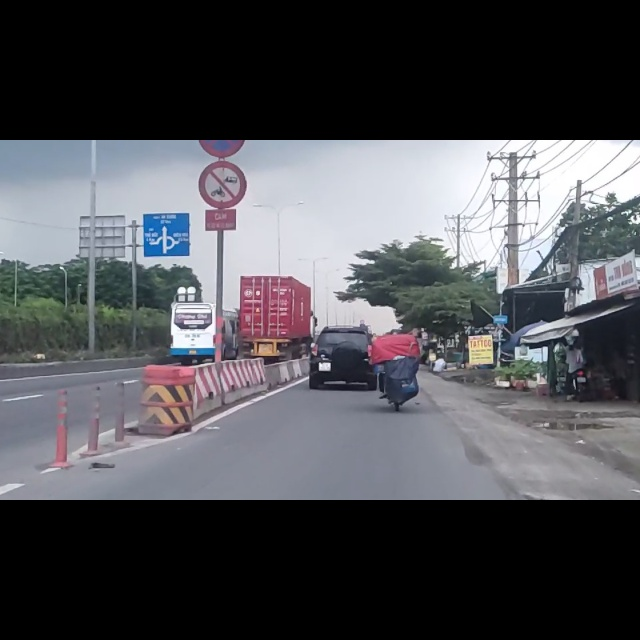bien_cam: (197, 35, 248, 121)
